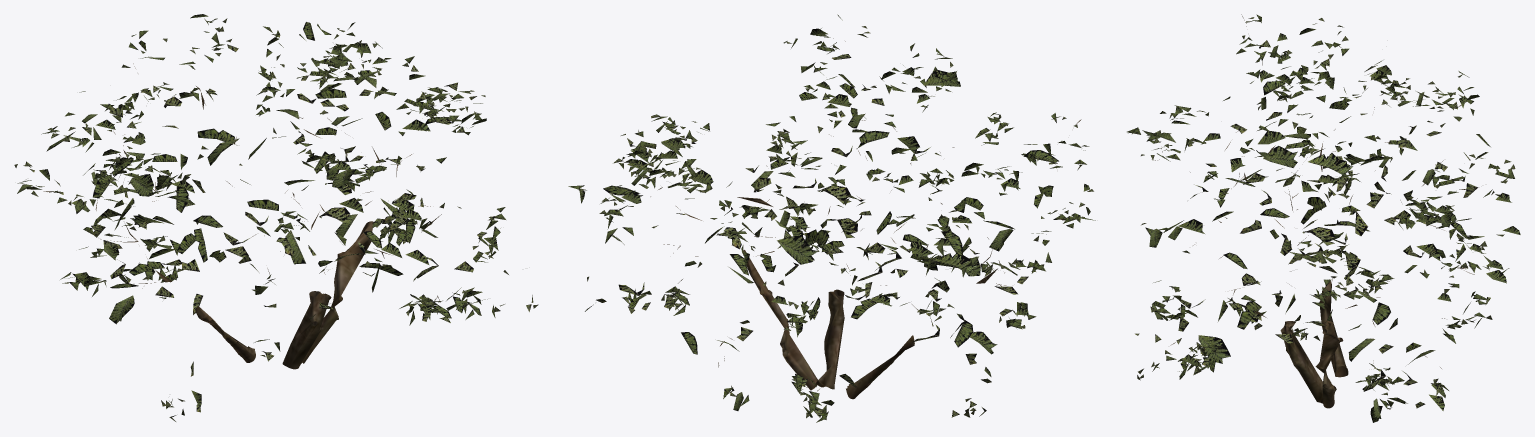
Rendered from arbre_jacaranda_lod2.glb.
The picture shows the model from 3 angles, left to right: view 1: azimuth 30°, elevation 25°; view 2: azimuth 150°, elevation 25°; view 3: azimuth 270°, elevation 25°; orthographic projection. The views are drawn at different scales.
Parts seen in each view (by area): view 1: jacaranda_tree_LOD0; view 2: jacaranda_tree_LOD0; view 3: jacaranda_tree_LOD0.
Boxes of the visible parts, x1,y1,x2,y2 form: jacaranda_tree_LOD0: (14, 14, 538, 421); jacaranda_tree_LOD0: (568, 14, 1095, 422); jacaranda_tree_LOD0: (1127, 14, 1520, 422).
Size of the model in its own units: 23.47 by 16.77 by 17.52.
Materials: 3 (3 with a texture image).
